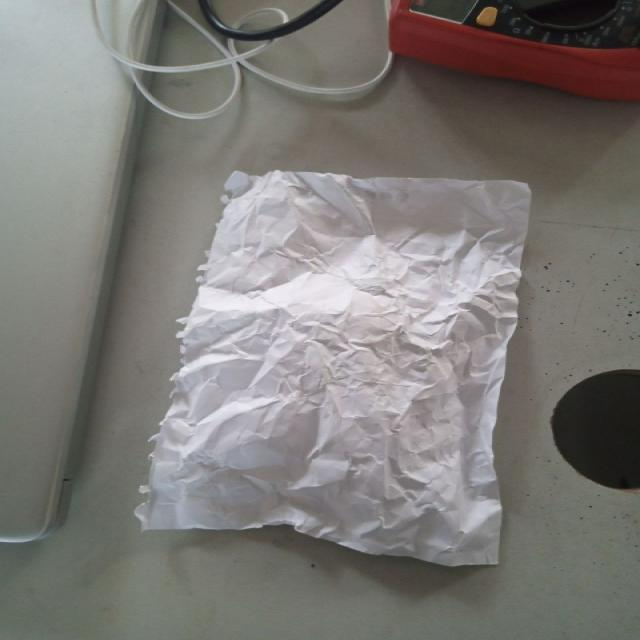Paper: (133, 171, 532, 571)
